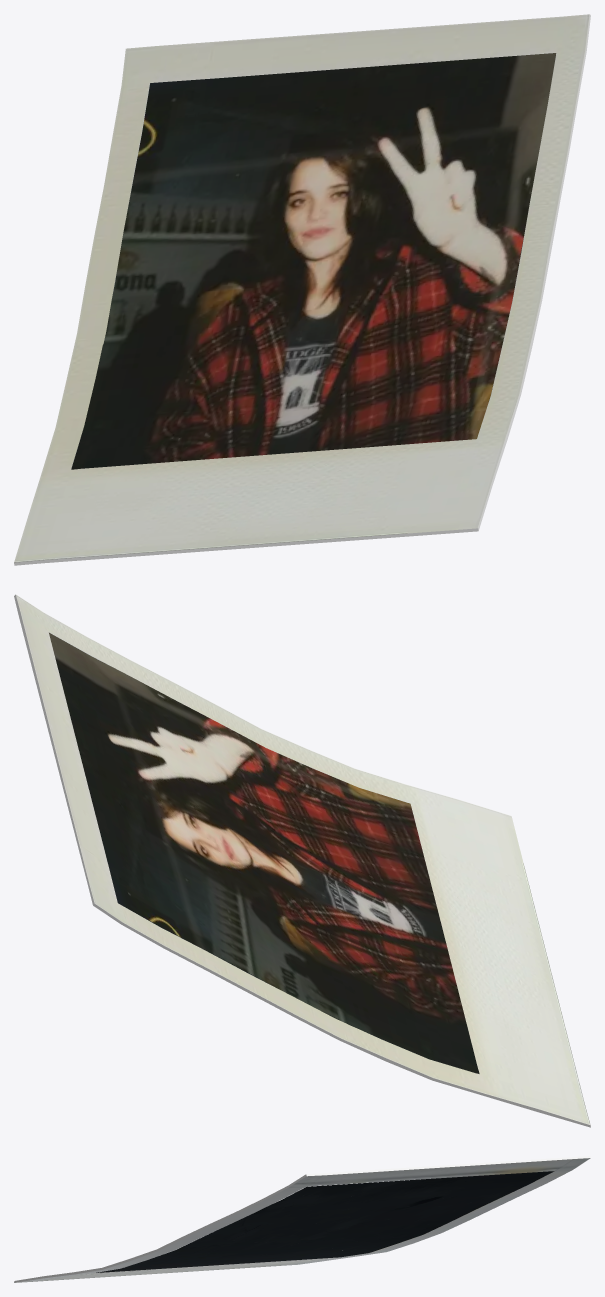
3 views of the same model, one above another, from view 1: azimuth 30°, elevation 25°; view 2: azimuth 150°, elevation 25°; view 3: azimuth 270°, elevation 25° (orthographic). The views are drawn at different scales.
Visible parts, largest first — view 1: Object_3, Object_5; view 2: Object_3, Object_5; view 3: Object_4, Object_5.
Part boxes in pixels (bbox=[...]): Object_3: bbox=[71, 53, 556, 469]; Object_5: bbox=[14, 14, 590, 565]; Object_3: bbox=[49, 632, 479, 1073]; Object_5: bbox=[14, 594, 590, 1127]; Object_4: bbox=[96, 1171, 554, 1272]; Object_5: bbox=[14, 1156, 590, 1282].
Bounding box in the file's own units: 27.19 × 18.11 × 31.5.
3 materials, 3 textured.
